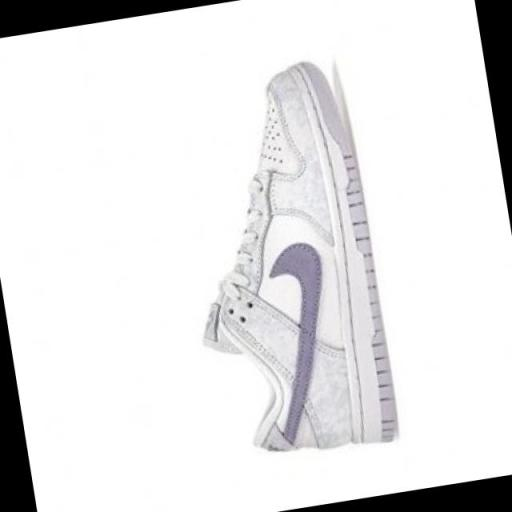Nike: (246, 236, 352, 454)
